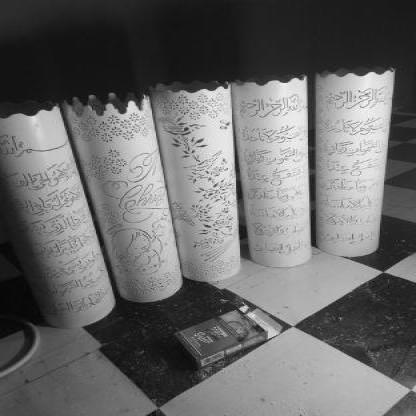objects: (174, 305, 282, 370)
